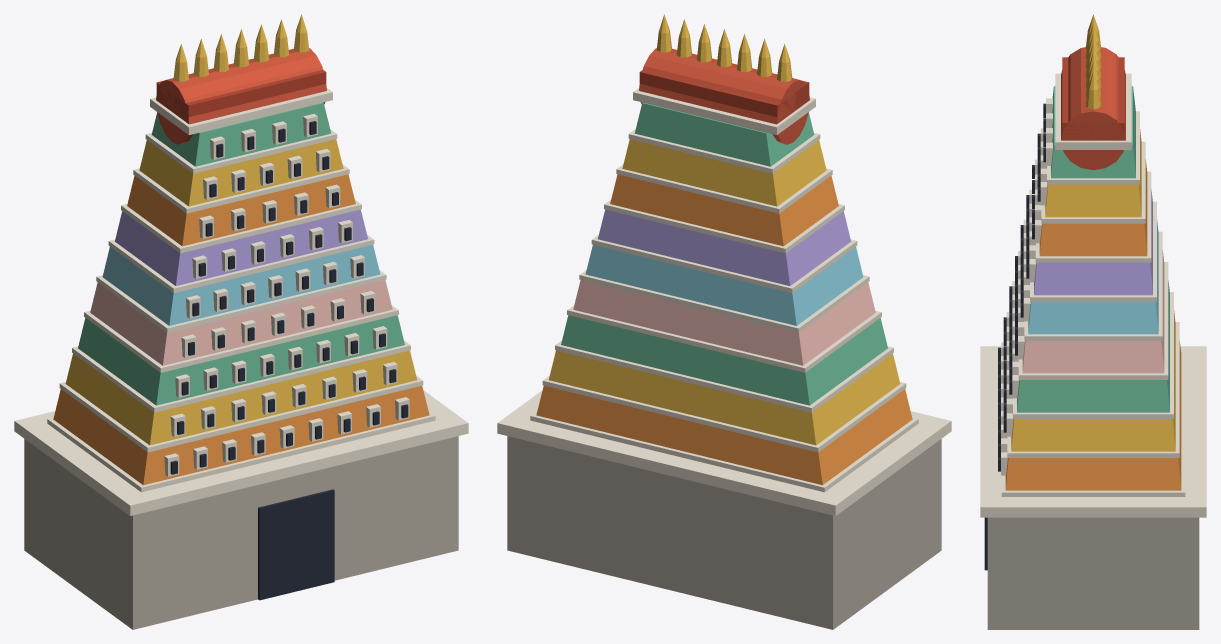
Rendered from meenakshi-gopuram.glb.
3 views of the same model, side by side, from view 1: azimuth 30°, elevation 25°; view 2: azimuth 150°, elevation 25°; view 3: azimuth 270°, elevation 25° (orthographic). The views are drawn at different scales.
Parts seen in each view (by area): view 1: meenakshi-gopuram; view 2: meenakshi-gopuram; view 3: meenakshi-gopuram.
Boxes of the visible parts, <box> form: meenakshi-gopuram: <box>14,14,468,629</box>; meenakshi-gopuram: <box>497,14,951,629</box>; meenakshi-gopuram: <box>980,14,1206,629</box>.
Bounding box in the file's own units: 2.71 × 4 × 1.61.
